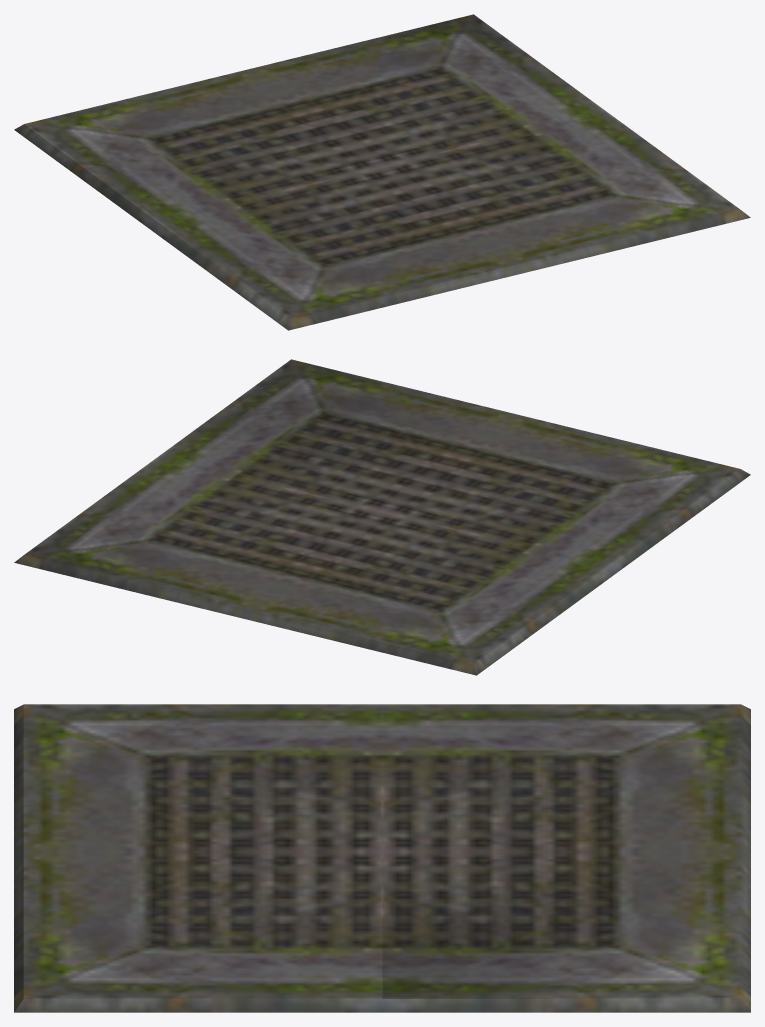
The model's file is S2_Build_XSC067.FBX.
3 views of the same model, one above another, from view 1: azimuth 30°, elevation 25°; view 2: azimuth 150°, elevation 25°; view 3: azimuth 270°, elevation 25° (orthographic). The views are drawn at different scales.
Parts seen in each view (by area): view 1: S2_Build_XSC067; view 2: S2_Build_XSC067; view 3: S2_Build_XSC067.
Boxes of the visible parts, bbox=[...] form: S2_Build_XSC067: bbox=[14, 14, 750, 330]; S2_Build_XSC067: bbox=[14, 359, 750, 675]; S2_Build_XSC067: bbox=[14, 704, 750, 1012].
Size of the model in its own units: 17.22 by 0.2425 by 17.68.
